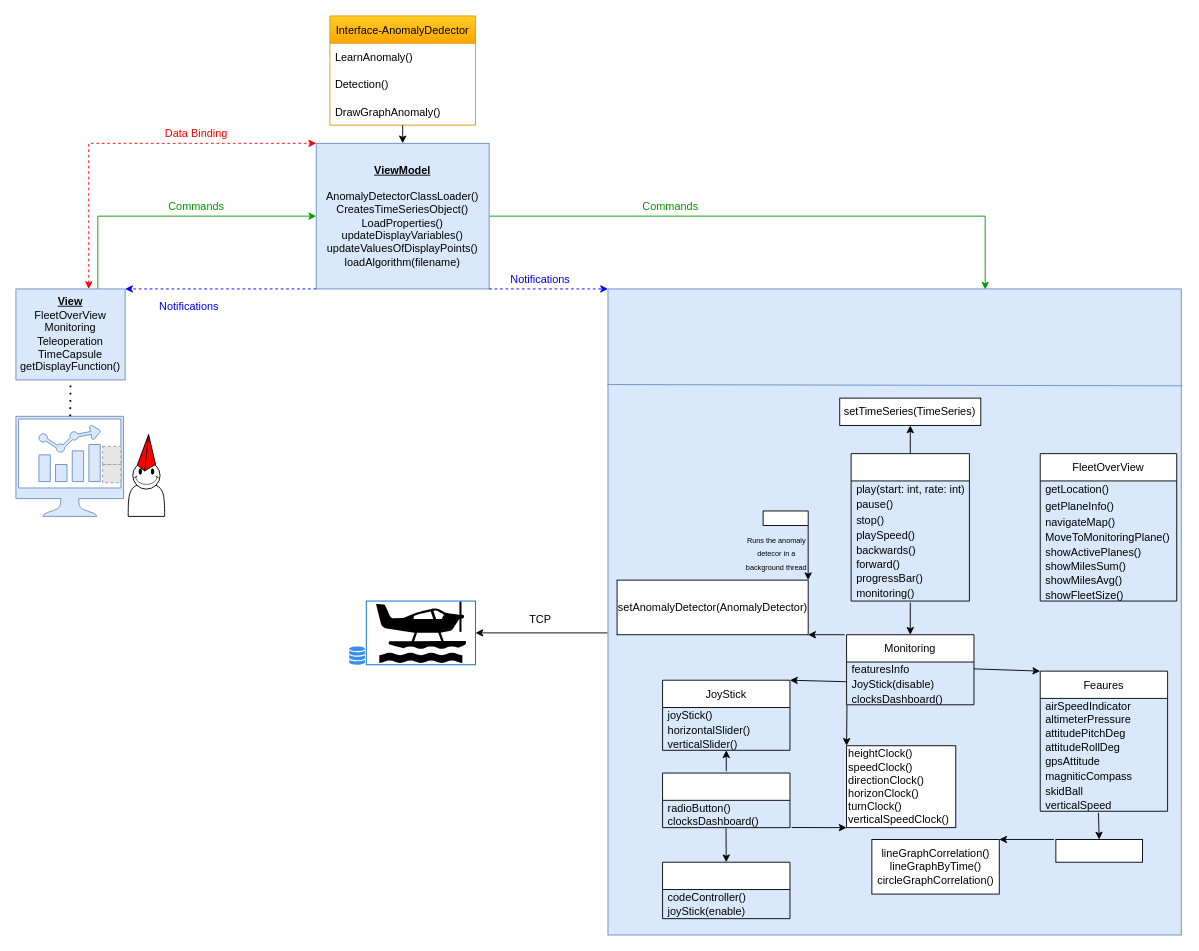
Image size: 1199x951. Some labels were removed from this diagram. Grey dashed boxes stand in for pictures. The shapes that lost their labels are listed below. From the top down, each one's box as (x1, y1, x2, y2) in pixels, then its label:
(762, 510, 808, 526): start()
(850, 453, 969, 601): TimeCapsule()
(607, 288, 1181, 935): Model Business Logic Project Flight in the past
(662, 772, 790, 828): Teleopataion
(1055, 839, 1143, 862): updateGraphs()
(662, 861, 790, 919): RadioButton
